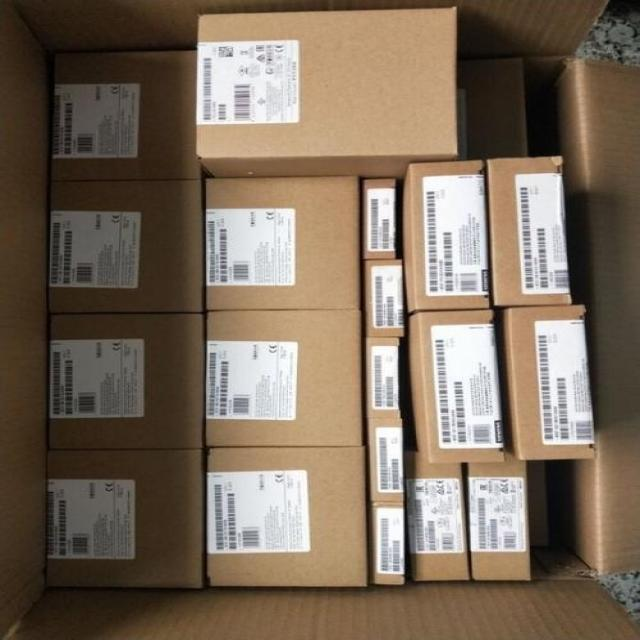box: (197, 8, 458, 180), (205, 448, 367, 587), (47, 449, 206, 589), (206, 309, 364, 447), (50, 313, 205, 450), (204, 178, 361, 310), (50, 49, 202, 182), (50, 181, 204, 312), (407, 310, 507, 463), (497, 304, 595, 459), (402, 160, 490, 312), (486, 156, 572, 306), (404, 451, 471, 581), (468, 455, 532, 580), (458, 58, 527, 160), (367, 502, 406, 585), (365, 259, 404, 337), (367, 421, 404, 502), (366, 337, 401, 419), (364, 180, 397, 259)
